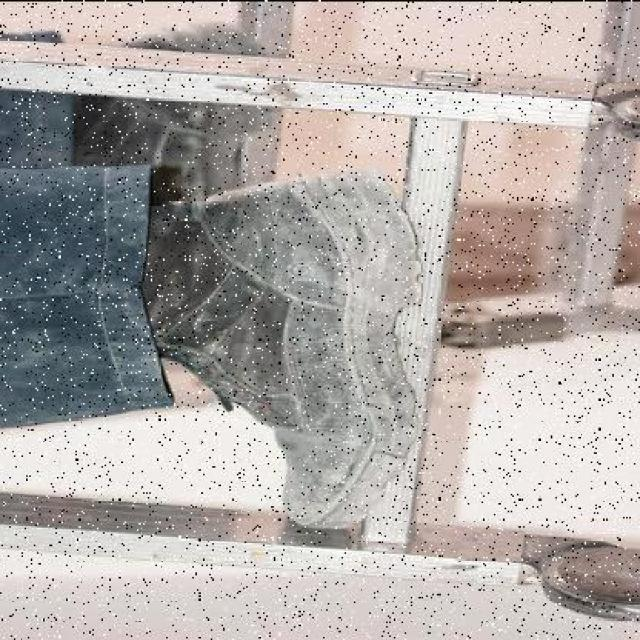shoes: (149, 161, 425, 524)
